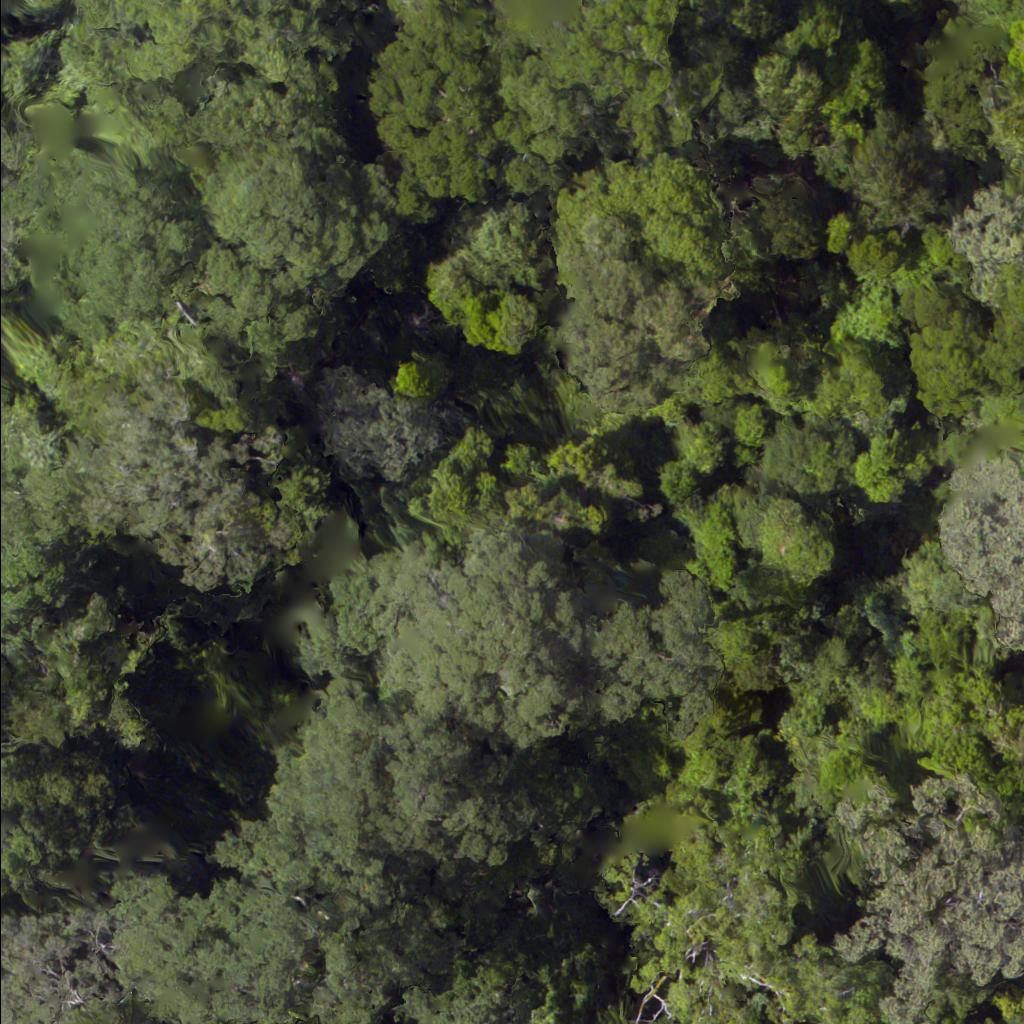crown: (834, 772, 1023, 1023)
